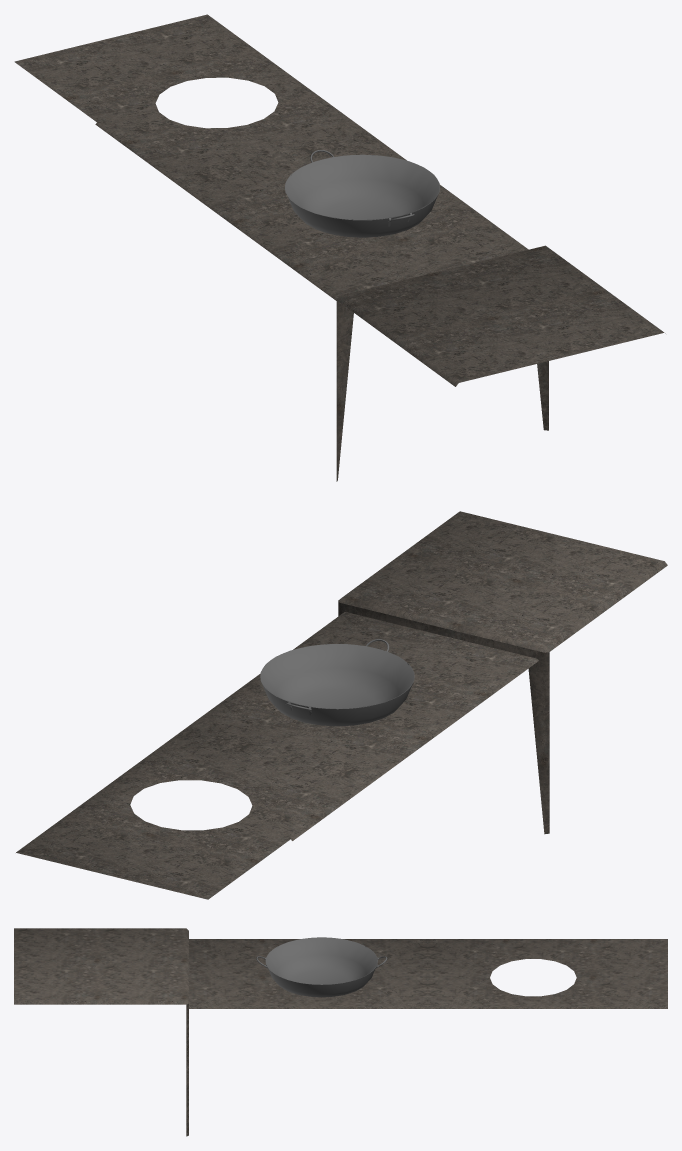
Rendered from scene_countryside.glb.
3 renders of one model, top to bottom at view 1: azimuth 30°, elevation 25°; view 2: azimuth 150°, elevation 25°; view 3: azimuth 270°, elevation 25°, orthographic. The views are drawn at different scales.
Visible parts, largest first — view 1: scene_countryside_part0, scene_countryside_part1; view 2: scene_countryside_part0, scene_countryside_part1; view 3: scene_countryside_part0, scene_countryside_part1.
Part boxes in pixels (x1,y1,x2,y2): scene_countryside_part0: (14,14,665,481); scene_countryside_part1: (285,149,439,237); scene_countryside_part0: (16,511,667,899); scene_countryside_part1: (260,639,414,726); scene_countryside_part0: (14,928,667,1136); scene_countryside_part1: (256,937,387,997).
Bounding box in the file's own units: 0.2713 × 0.2464 × 1.
Materials: 2 (1 with a texture image).
